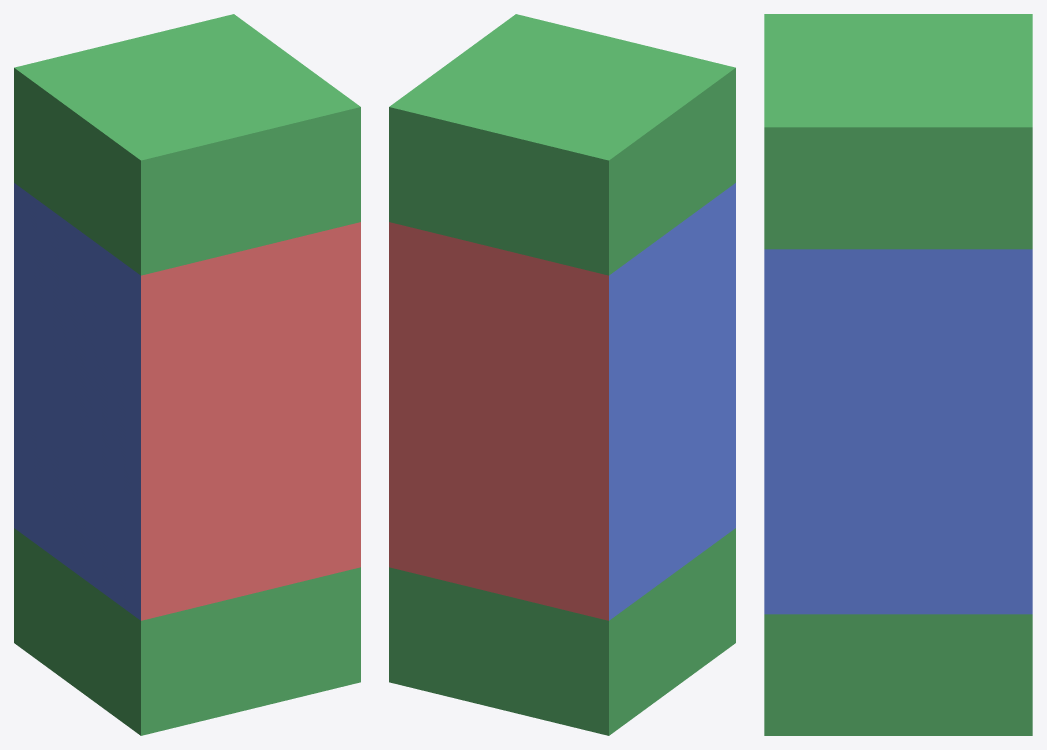
Rendered from y_init_and_meas_bridge.pipe_length_0_5.dae.
The picture shows the model from 3 angles, left to right: view 1: azimuth 30°, elevation 25°; view 2: azimuth 150°, elevation 25°; view 3: azimuth 270°, elevation 25°; orthographic projection. The views are drawn at different scales.
Parts seen in each view (by area): view 1: Y (×5), ZXX (×2), ZXO (×2); view 2: Y (×5), ZXX (×2), ZXO (×2); view 3: Y (×3), ZXX, ZXO.
Part boxes in pixels (left/top/right/bottom): Y (×5): left=14, top=14, right=360, bottom=735; ZXX (×2): left=14, top=183, right=360, bottom=505; ZXO (×2): left=14, top=413, right=360, bottom=620; Y (×5): left=389, top=14, right=735, bottom=735; ZXX (×2): left=389, top=183, right=735, bottom=505; ZXO (×2): left=389, top=413, right=735, bottom=620; Y (×3): left=764, top=14, right=1032, bottom=735; ZXX: left=764, top=249, right=1032, bottom=492; ZXO: left=764, top=492, right=1032, bottom=614.
Bounding box in the file's own units: 1 × 1 × 2.5.
